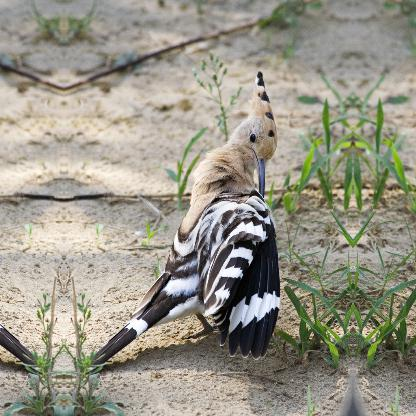Bird: (86, 70, 280, 368), (0, 70, 40, 368)
